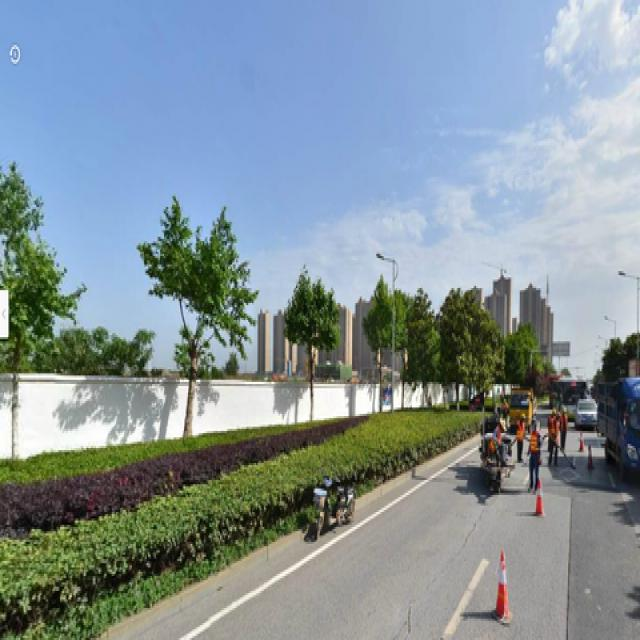meta: (164, 213, 229, 446), (4, 177, 49, 437), (285, 280, 323, 394)
